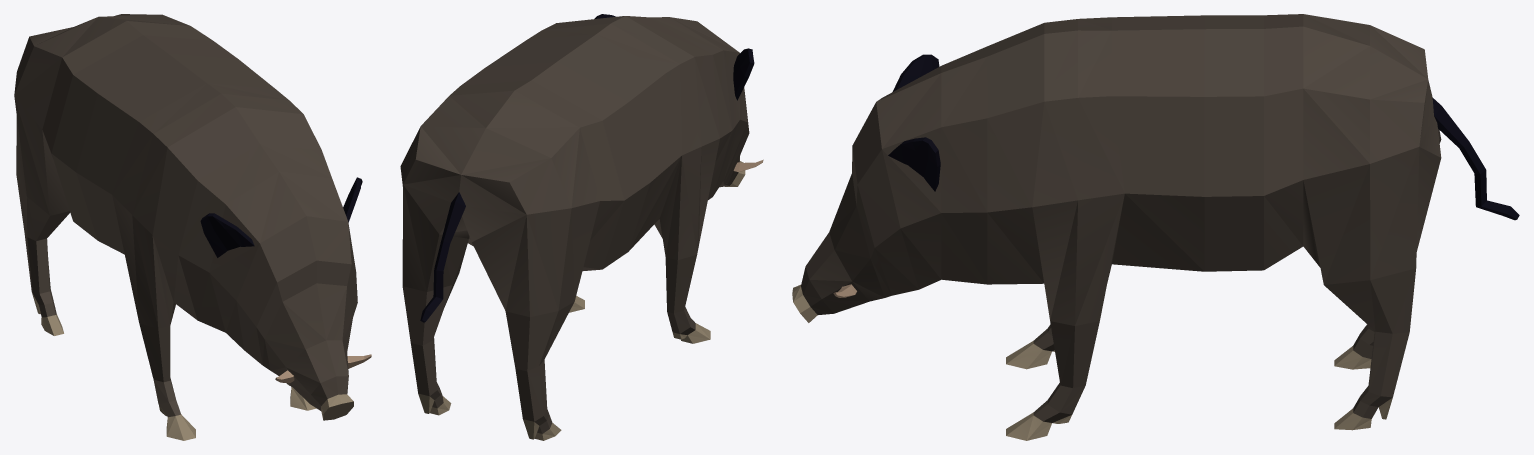
Rendered from boar_lod0.glb.
The picture shows the model from 3 angles, left to right: view 1: azimuth 30°, elevation 25°; view 2: azimuth 150°, elevation 25°; view 3: azimuth 270°, elevation 25°; orthographic projection. The views are drawn at different scales.
Parts seen in each view (by area): view 1: boar; view 2: boar; view 3: boar.
Boxes of the visible parts, x1,y1,x2,y2 form: boar: [14, 14, 371, 440]; boar: [400, 14, 763, 440]; boar: [792, 14, 1519, 440].
Size of the model in its own units: 0.5874 by 0.95 by 1.69.
